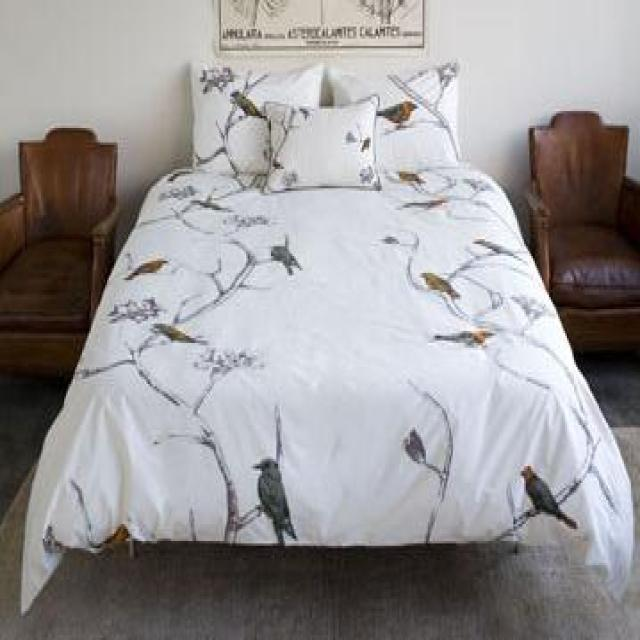bed: (84, 53, 576, 583)
chair: (0, 125, 119, 379), (522, 109, 638, 355)
